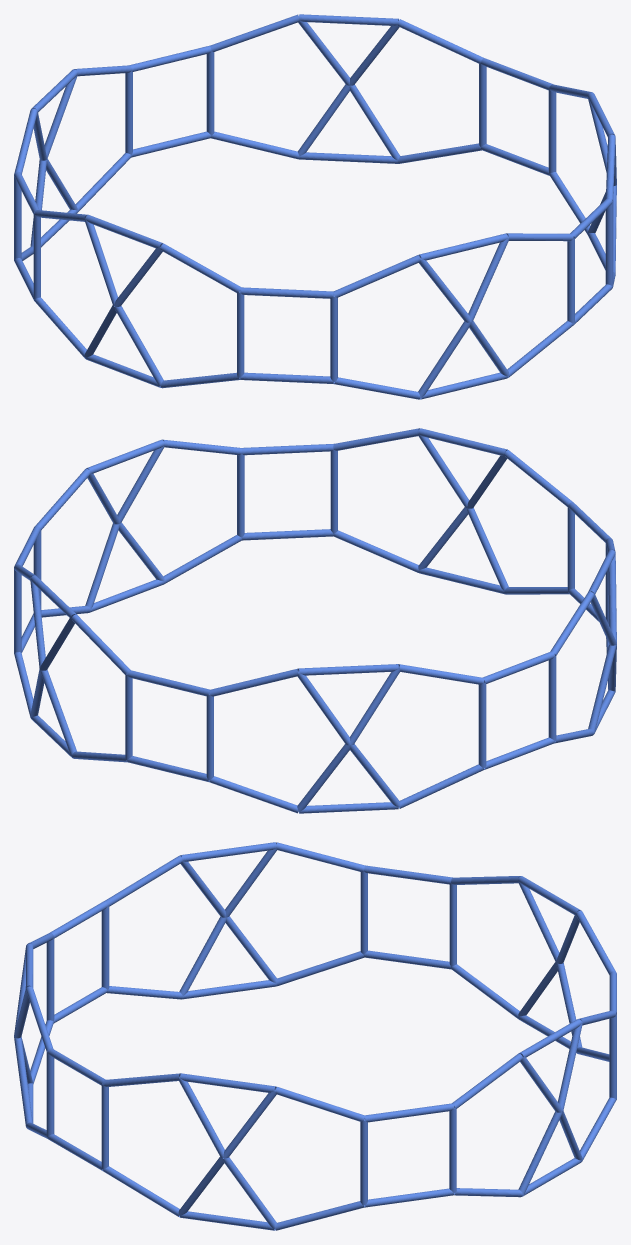
The model's file is trinexus4_1b.glb.
The picture shows the model from 3 angles, top to bottom: view 1: azimuth 30°, elevation 25°; view 2: azimuth 150°, elevation 25°; view 3: azimuth 270°, elevation 25°; orthographic projection.
Parts seen in each view (by area): view 1: Mesh_199; view 2: Mesh_199; view 3: Mesh_199.
Part boxes in pixels (x1,y1,x2,y2): Mesh_199: [14, 14, 616, 399]; Mesh_199: [14, 428, 616, 813]; Mesh_199: [14, 842, 616, 1230].
Bounding box in the file's own units: 9.62 × 2.55 × 9.68.
